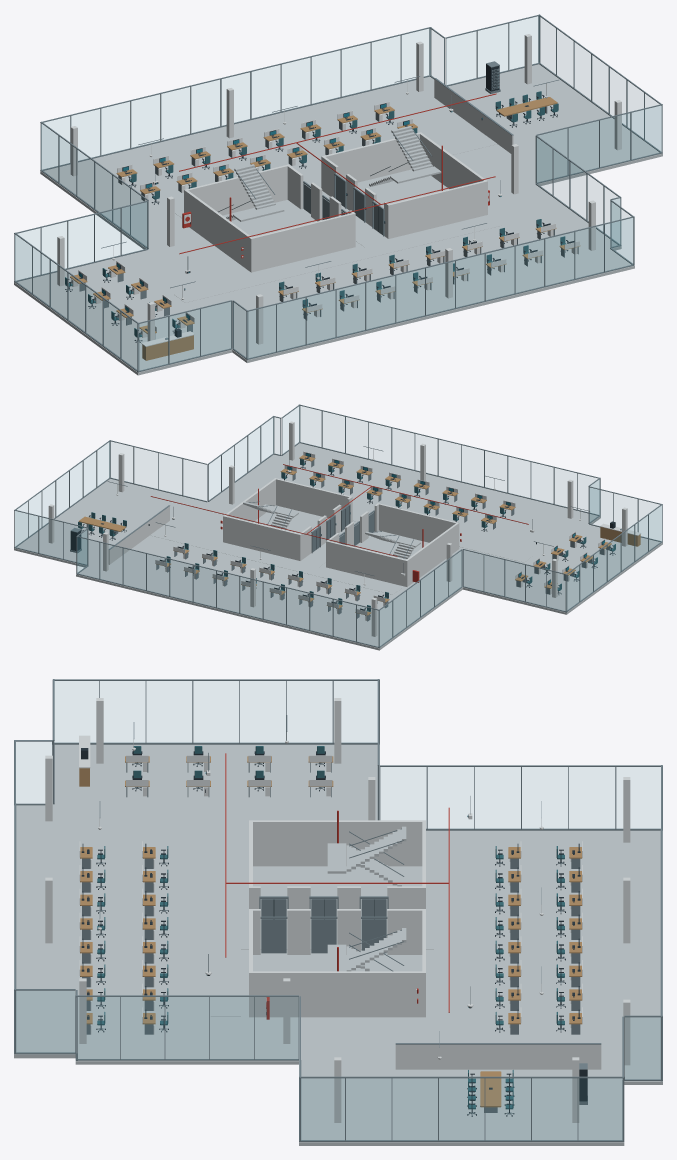
3 renders of one model, top to bottom at view 1: azimuth 30°, elevation 25°; view 2: azimuth 150°, elevation 25°; view 3: azimuth 270°, elevation 25°, orthographic. The views are drawn at different scales.
Visible parts, largest first — view 1: T1_F02_SLAB, T1_F02_WHITE, T1_F02_GLASS_S, T1_F02_GLASS_N, T1_F02_STEEL, T1_F02_GLASS_W, T1_F02_GLASS_E, T1_F02_WOOD, T1_F02_DARK, T1_F02_FABRIC, T1_F02_RED; view 2: T1_F02_SLAB, T1_F02_WHITE, T1_F02_GLASS_N, T1_F02_STEEL, T1_F02_GLASS_S, T1_F02_GLASS_W, T1_F02_GLASS_E, T1_F02_WOOD, T1_F02_DARK, T1_F02_FABRIC, T1_F02_RED; view 3: T1_F02_SLAB, T1_F02_WHITE, T1_F02_GLASS_E, T1_F02_GLASS_W, T1_F02_STEEL, T1_F02_WOOD, T1_F02_DARK, T1_F02_FABRIC, T1_F02_RED.
Boxes of the visible parts, bbox=[...] form: T1_F02_SLAB: bbox=[14, 64, 662, 375]; T1_F02_WHITE: bbox=[57, 34, 621, 346]; T1_F02_GLASS_S: bbox=[140, 106, 660, 370]; T1_F02_GLASS_N: bbox=[19, 17, 538, 267]; T1_F02_STEEL: bbox=[14, 14, 662, 372]; T1_F02_GLASS_W: bbox=[15, 125, 245, 369]; T1_F02_GLASS_E: bbox=[431, 18, 657, 243]; T1_F02_WOOD: bbox=[70, 97, 580, 360]; T1_F02_DARK: bbox=[65, 64, 574, 342]; T1_F02_FABRIC: bbox=[65, 91, 566, 337]; T1_F02_RED: bbox=[179, 93, 496, 258]; T1_F02_SLAB: bbox=[14, 443, 662, 650]; T1_F02_WHITE: bbox=[48, 421, 641, 636]; T1_F02_GLASS_N: bbox=[15, 512, 564, 646]; T1_F02_STEEL: bbox=[14, 404, 662, 648]; T1_F02_GLASS_S: bbox=[110, 406, 657, 527]; T1_F02_GLASS_W: bbox=[380, 480, 661, 645]; T1_F02_GLASS_E: bbox=[18, 408, 298, 536]; T1_F02_WOOD: bbox=[78, 455, 640, 615]; T1_F02_DARK: bbox=[70, 453, 615, 616]; T1_F02_FABRIC: bbox=[78, 458, 615, 611]; T1_F02_RED: bbox=[150, 464, 528, 582]; T1_F02_SLAB: bbox=[14, 744, 662, 1145]; T1_F02_WHITE: bbox=[45, 698, 630, 1122]; T1_F02_GLASS_E: bbox=[16, 991, 660, 1139]; T1_F02_GLASS_W: bbox=[16, 681, 660, 828]; T1_F02_STEEL: bbox=[14, 679, 662, 1141]; T1_F02_WOOD: bbox=[79, 756, 582, 1107]; T1_F02_DARK: bbox=[81, 748, 587, 1116]; T1_F02_FABRIC: bbox=[97, 746, 564, 1109]; T1_F02_RED: bbox=[225, 753, 449, 1019].
Bounding box in the file's own units: 55.47 × 4.5 × 38.19.
